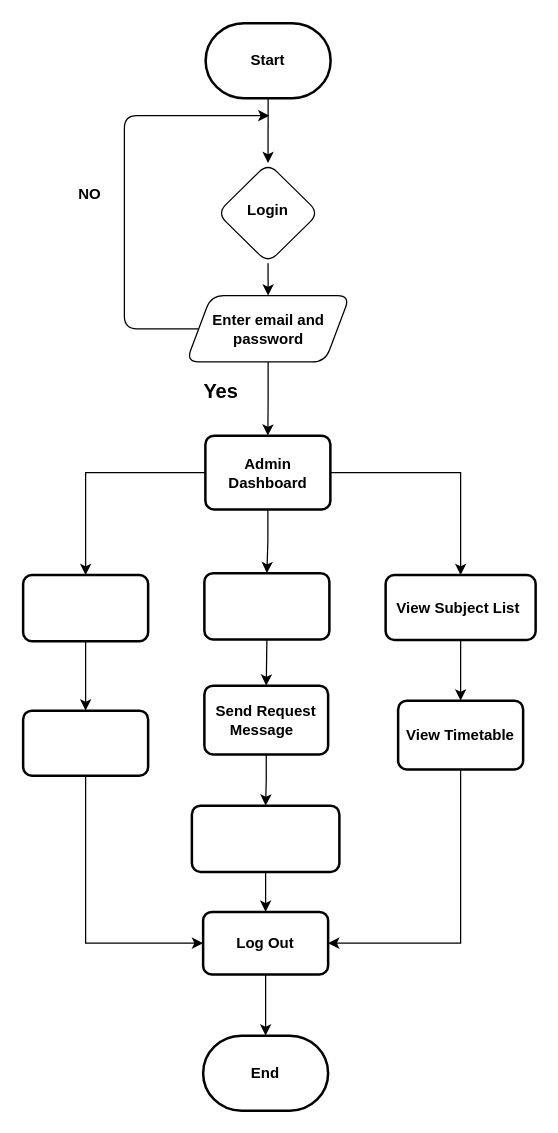
Image size: 558x1133. Some labels were removed from this diagram. Each missing label, with the centre of its shape:
"Change Password" goes at (85,742).
"View Notice Board" goes at (266,605).
"View Profile" goes at (85,607).
"View Self Message" goes at (265,838).
